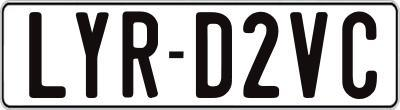2: (241, 10, 280, 96)
C: (339, 11, 380, 102)
D: (195, 9, 232, 100)
L: (28, 11, 65, 100)
R: (120, 10, 160, 103)
V: (287, 9, 326, 96)
Y: (73, 10, 108, 100)
